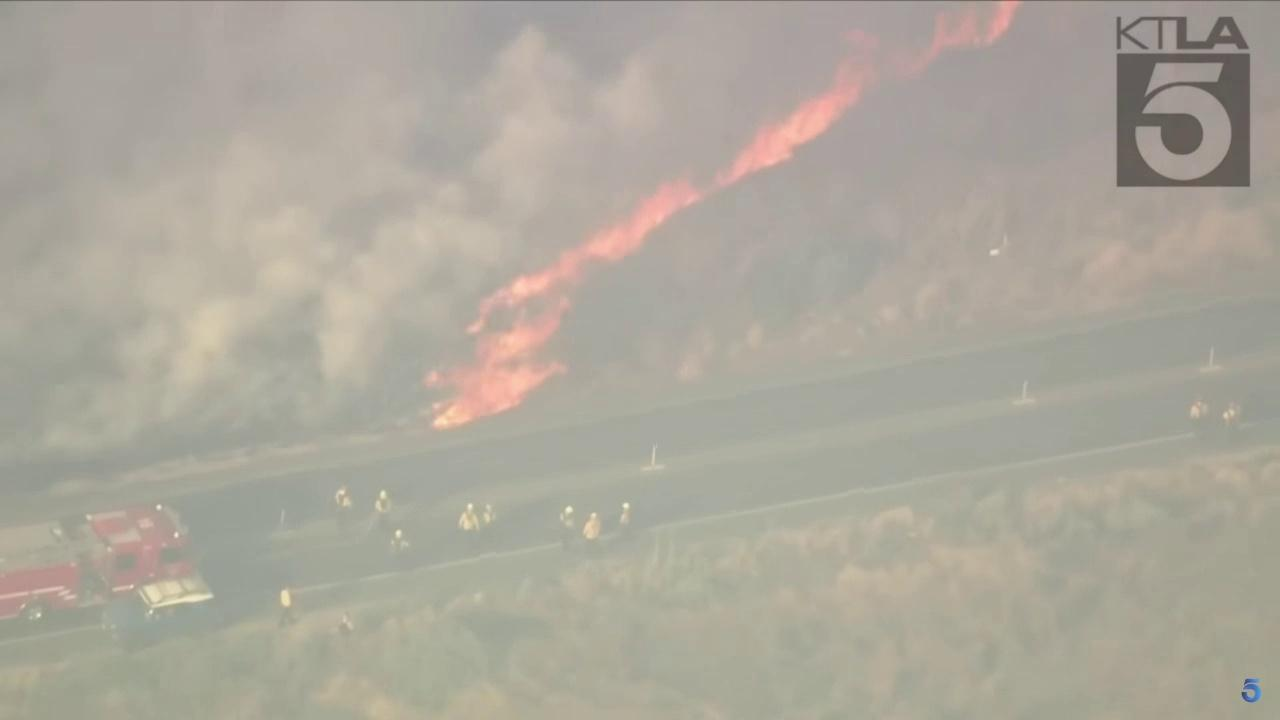fire: (419, 57, 876, 433), (930, 0, 1021, 58)
smoke: (0, 0, 986, 477)
